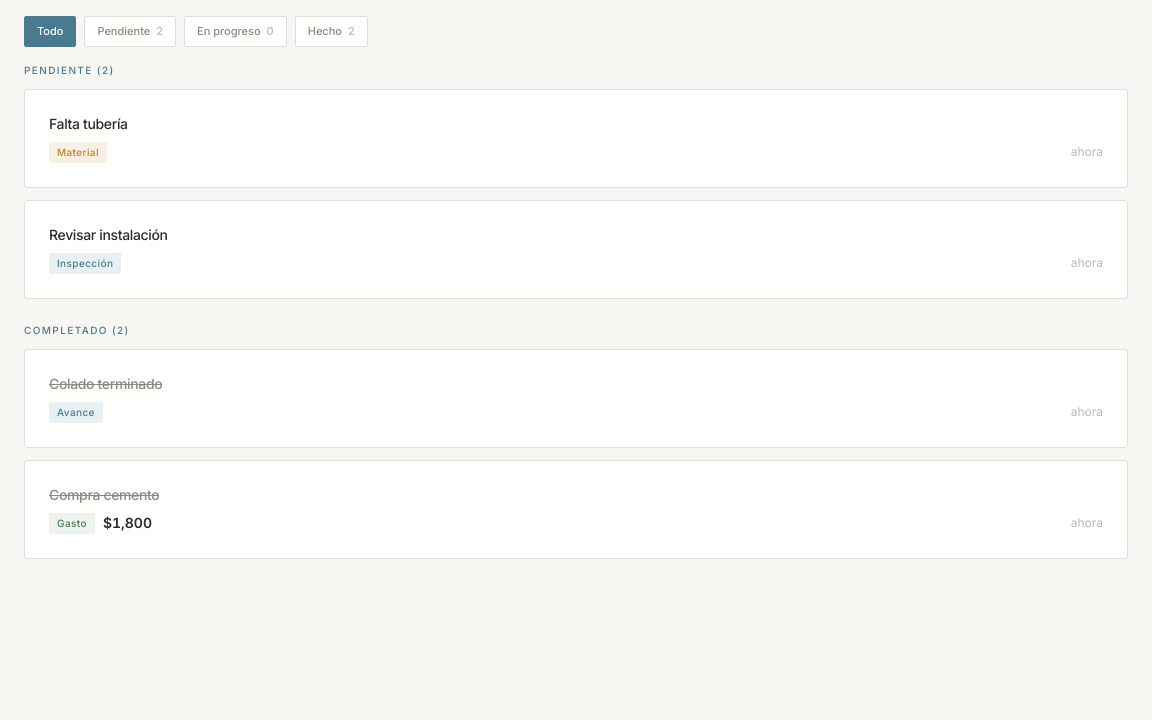
TaskList › shows empty state when no tasks match filter
This screenshot has width=1152, height=720.
// Click "En progreso" — no tasks have this status
Step 1. Click the button "En progreso 0" → click(235, 31), box [184,16,287,46]
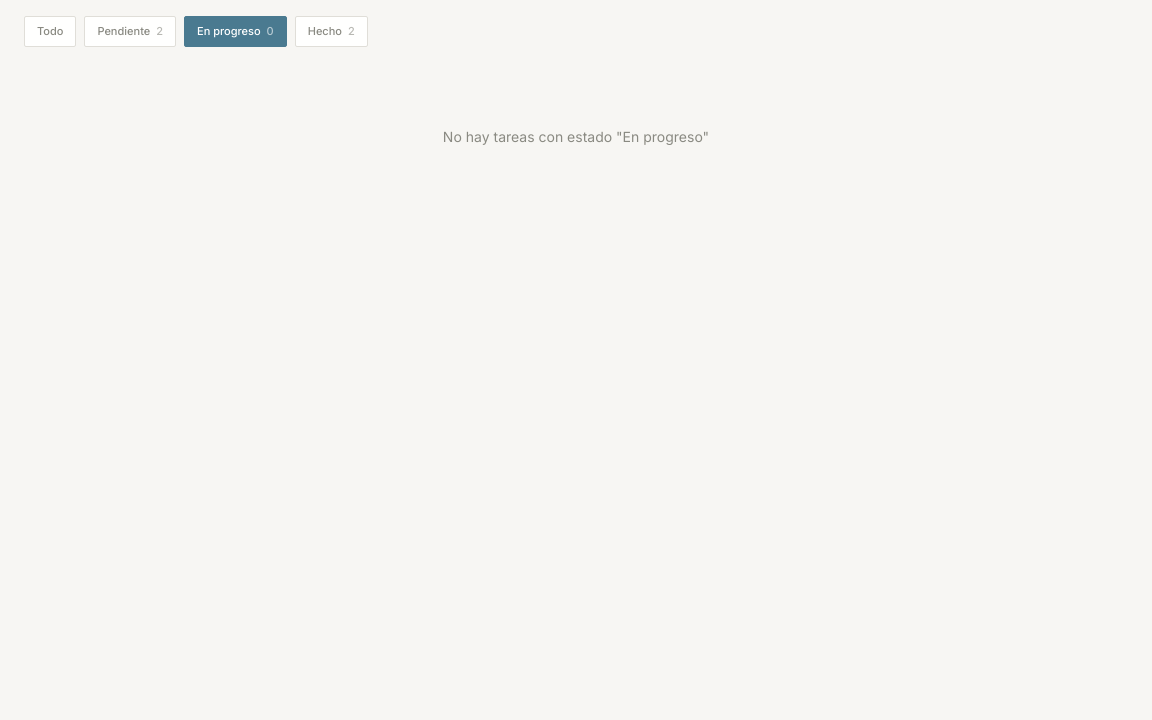
Now the element with test id "empty-state" is shown, box [443,128,709,144]
